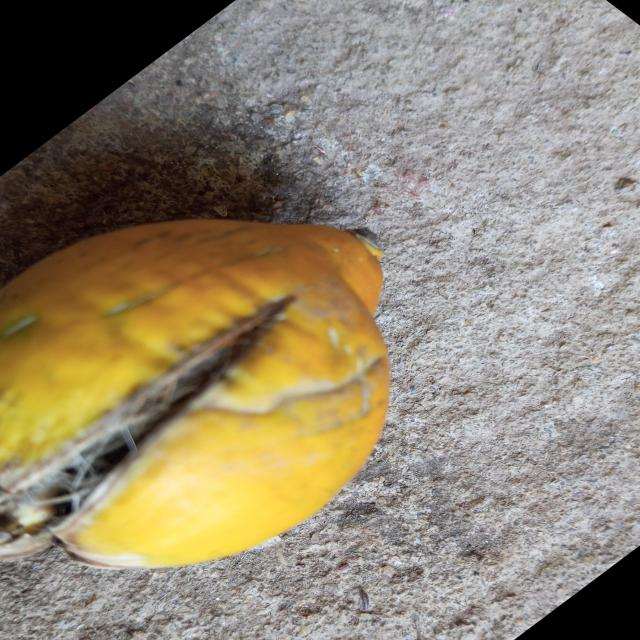damaged: (0, 219, 389, 568)
